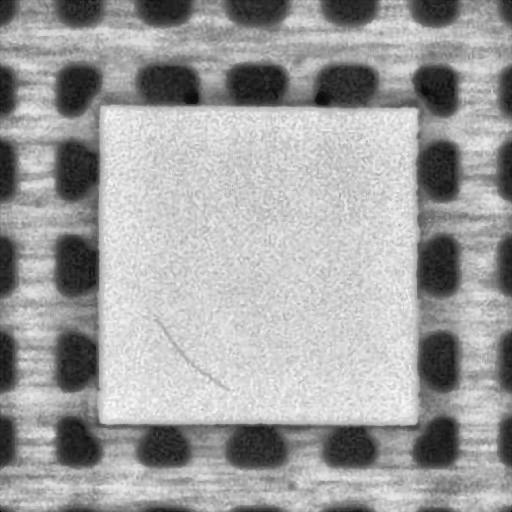DIE_CRACK: (153, 313, 232, 392)
